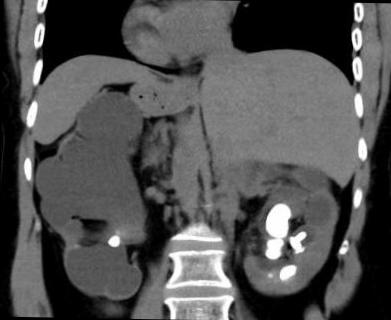Tas_Var: (262, 202, 290, 240), (274, 262, 298, 281), (263, 238, 283, 260), (286, 229, 306, 251), (104, 232, 122, 248), (293, 247, 305, 255), (264, 272, 274, 280)
